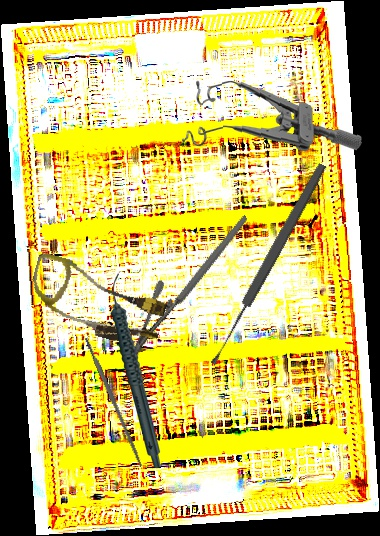Cannula: (22, 251, 172, 352)
Handpiece: (110, 273, 161, 469)
Needle Holder: (90, 215, 282, 371)
Scalpel Handle: (83, 336, 145, 468)
Speculum: (177, 71, 364, 160)
Surgical Spoon: (206, 161, 329, 367)
